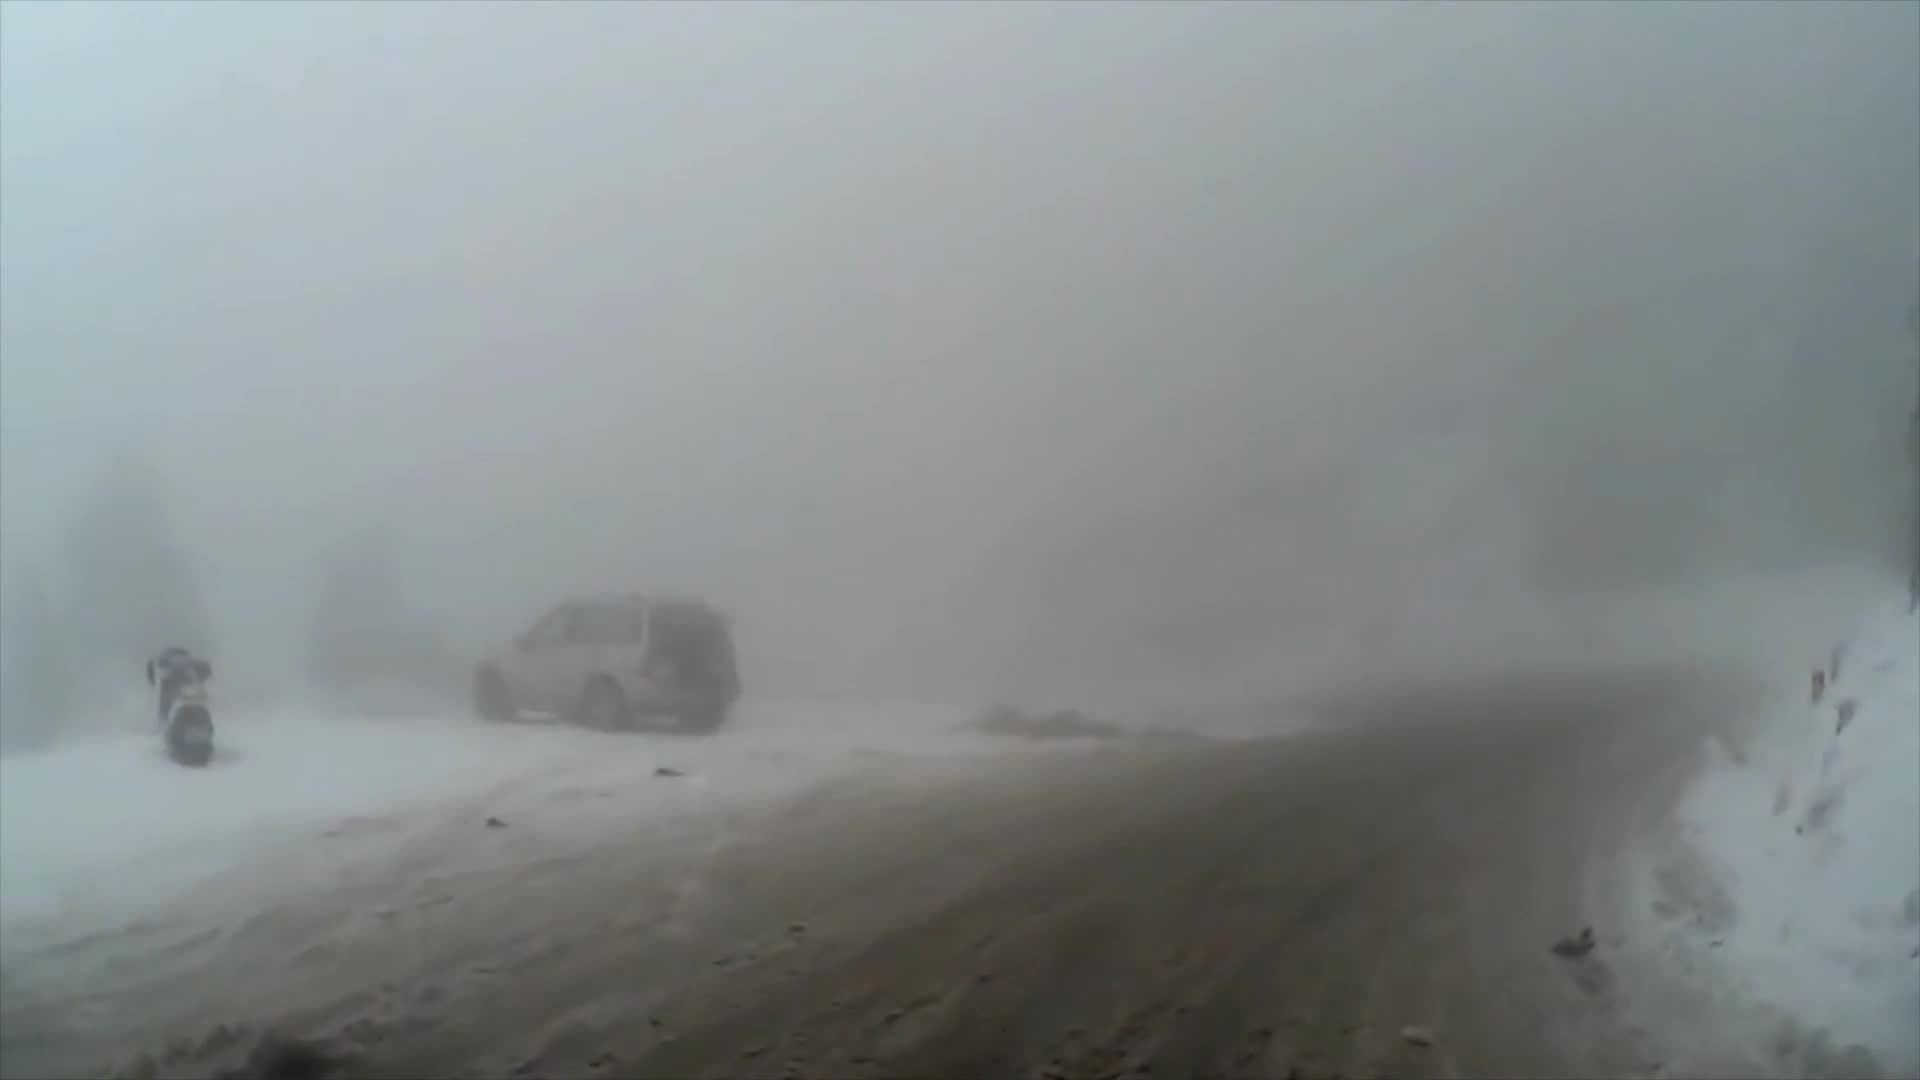vehicle: (468, 589, 742, 738)
